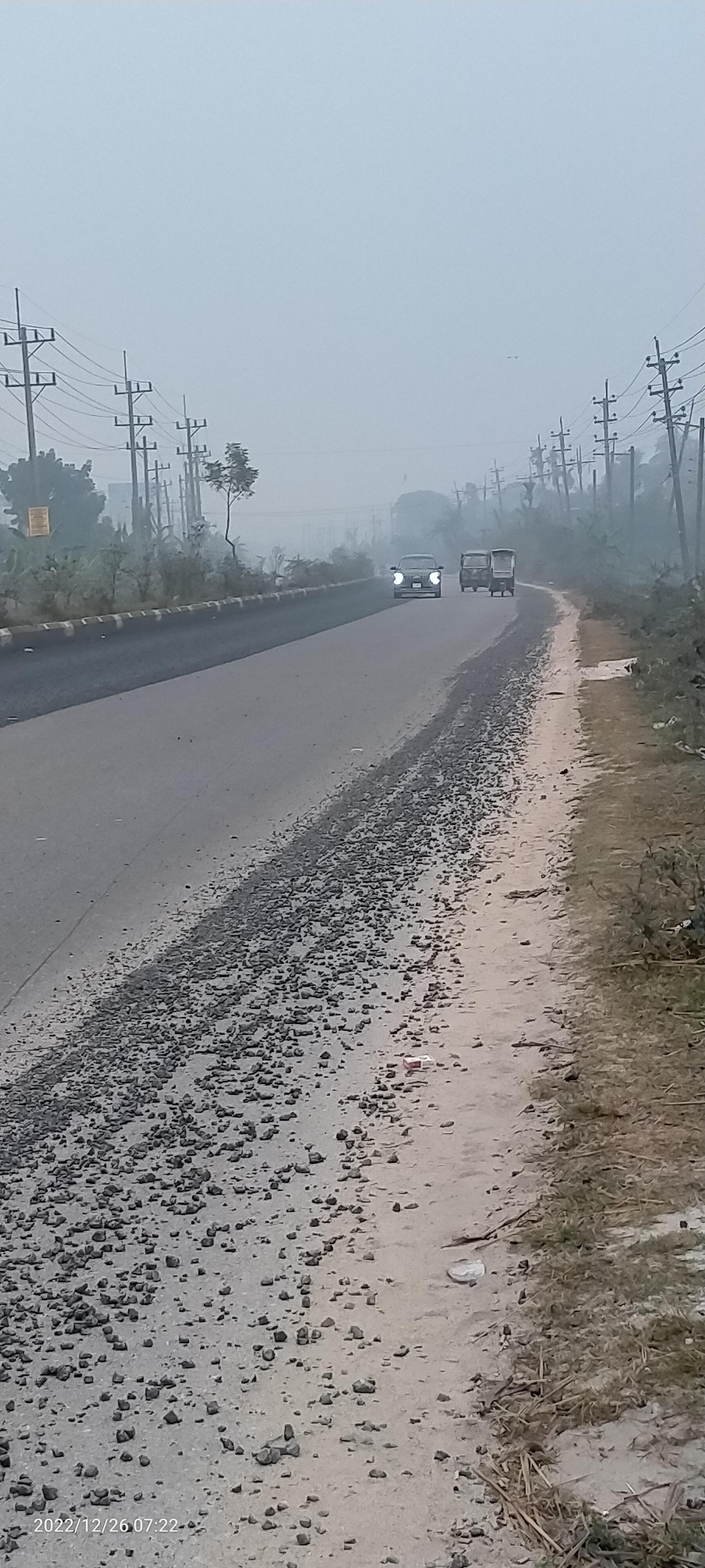Car: (385, 547, 444, 604), (486, 545, 522, 604)
